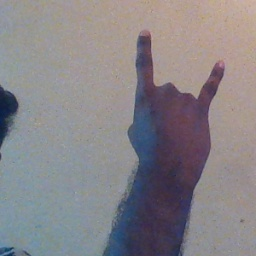V: (118, 24, 231, 173)
